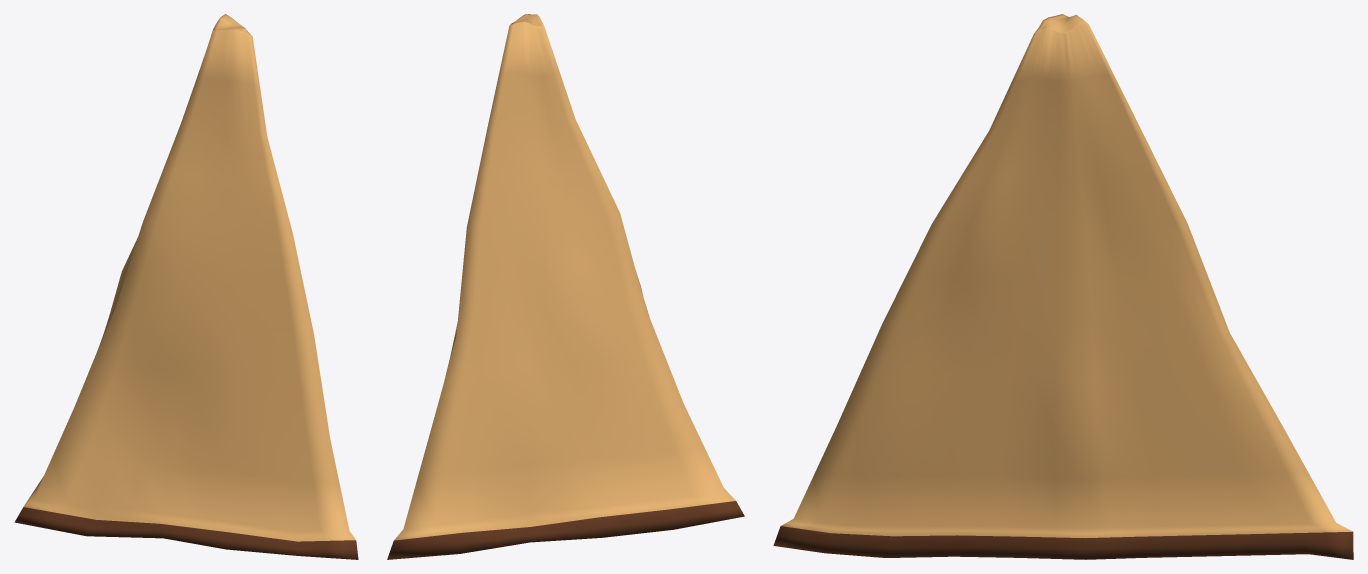
The model's file is BreadPyramid2.fbx.
The picture shows the model from 3 angles, left to right: view 1: azimuth 30°, elevation 25°; view 2: azimuth 150°, elevation 25°; view 3: azimuth 270°, elevation 25°; orthographic projection. The views are drawn at different scales.
Visible parts, largest first — view 1: Cone; view 2: Cone; view 3: Cone.
Part boxes in pixels (box(x1,y1,x2,y2)): Cone: box(14, 14, 358, 559); Cone: box(387, 14, 744, 559); Cone: box(773, 14, 1353, 559).
Size of the model in its own units: 113 by 205 by 200.
